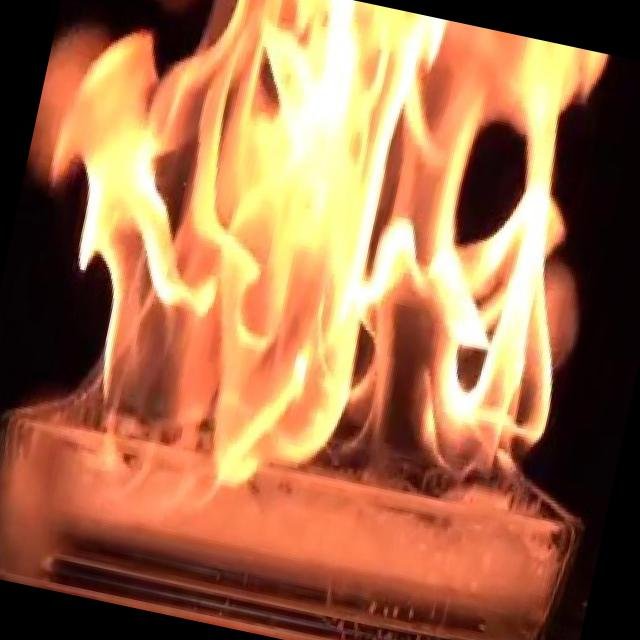Fire: (0, 0, 632, 568)
